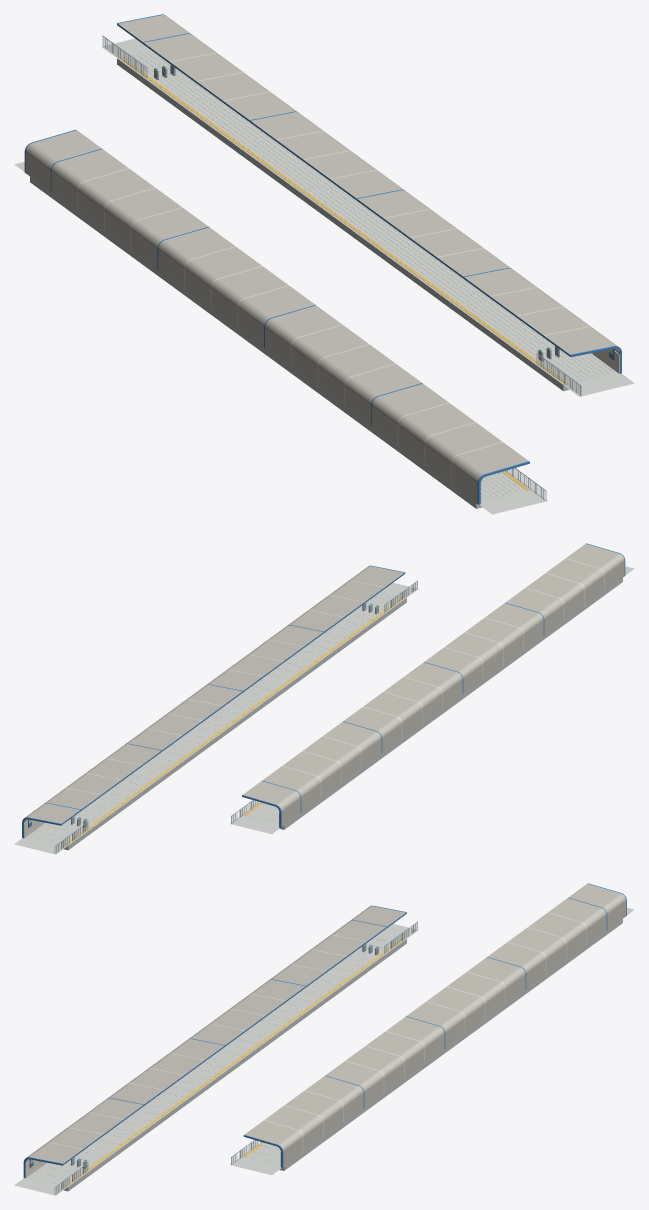
The model's file is station-A2.glb.
3 renders of one model, top to bottom at view 1: azimuth 30°, elevation 25°; view 2: azimuth 150°, elevation 25°; view 3: azimuth 330°, elevation 25°, orthographic. The views are drawn at different scales.
Parts seen in each view (by area): view 1: A2_platform_-1_roof, A2_platform_1_roof, A2_platform_1_tile, A2_platform_1_concrete, A2_platform_-1_concrete, A2_platform_1_yellow, A2_platform_-1_tile, A2_platform_-1_cladding, A2_platform_1_cladding, A2_platform_-1_accent; view 2: A2_platform_-1_roof, A2_platform_1_roof, A2_platform_1_tile, A2_platform_1_concrete, A2_platform_-1_concrete, A2_platform_1_yellow, A2_platform_-1_tile, A2_platform_-1_cladding, A2_platform_1_cladding, A2_platform_-1_accent; view 3: A2_platform_1_roof, A2_platform_-1_roof, A2_platform_-1_tile, A2_platform_-1_concrete, A2_platform_1_concrete, A2_platform_-1_yellow, A2_platform_1_tile, A2_platform_1_cladding, A2_platform_-1_cladding, A2_platform_1_accent.
Part boxes in pixels (x1,y1,x2,y2): A2_platform_-1_roof: (25, 130, 528, 503); A2_platform_1_roof: (117, 15, 618, 356); A2_platform_1_tile: (101, 38, 634, 396); A2_platform_1_concrete: (117, 58, 569, 391); A2_platform_-1_concrete: (30, 177, 482, 508); A2_platform_1_yellow: (119, 57, 611, 384); A2_platform_-1_tile: (14, 162, 547, 514); A2_platform_-1_cladding: (77, 168, 502, 503); A2_platform_1_cladding: (169, 53, 619, 373); A2_platform_-1_accent: (24, 129, 529, 504); A2_platform_-1_roof: (243, 544, 624, 826); A2_platform_1_roof: (24, 566, 404, 824); A2_platform_1_tile: (14, 582, 418, 854); A2_platform_1_concrete: (64, 598, 406, 850); A2_platform_-1_concrete: (279, 578, 622, 829); A2_platform_1_yellow: (30, 597, 404, 844); A2_platform_-1_tile: (230, 566, 634, 833); A2_platform_-1_cladding: (279, 558, 604, 827); A2_platform_1_cladding: (24, 580, 384, 838); A2_platform_-1_accent: (242, 543, 625, 827); A2_platform_1_roof: (244, 883, 626, 1166); A2_platform_-1_roof: (26, 906, 406, 1164); A2_platform_-1_tile: (14, 924, 418, 1195); A2_platform_-1_concrete: (64, 939, 406, 1191); A2_platform_1_concrete: (279, 919, 622, 1170); A2_platform_-1_yellow: (32, 938, 405, 1186); A2_platform_1_tile: (230, 908, 634, 1175); A2_platform_1_cladding: (264, 912, 586, 1166); A2_platform_-1_cladding: (25, 934, 366, 1178); A2_platform_1_accent: (243, 883, 626, 1167).
Bounding box in the file's own units: 26.2 × 3.8 × 108.
